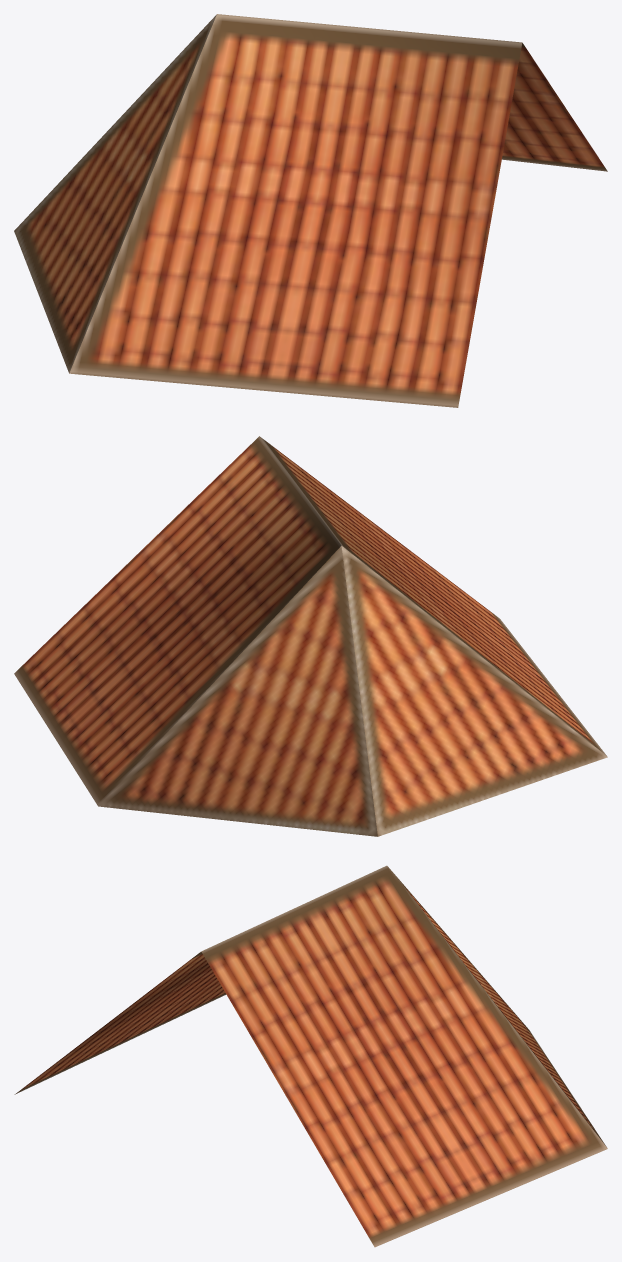
File: DuoiThu2Phai.glb
3 views of the same model, one above another, from view 1: azimuth 30°, elevation 25°; view 2: azimuth 150°, elevation 25°; view 3: azimuth 270°, elevation 25° (orthographic). The views are drawn at different scales.
Parts seen in each view (by area): view 1: Object_4.004; view 2: Object_4.004; view 3: Object_4.004.
Part boxes in pixels (bbox=[...]): Object_4.004: bbox=[14, 14, 607, 407]; Object_4.004: bbox=[14, 436, 607, 836]; Object_4.004: bbox=[14, 865, 607, 1247].
Size of the model in its own units: 0.3525 by 0.1357 by 0.3367.
Materials: 1 (1 with a texture image).
